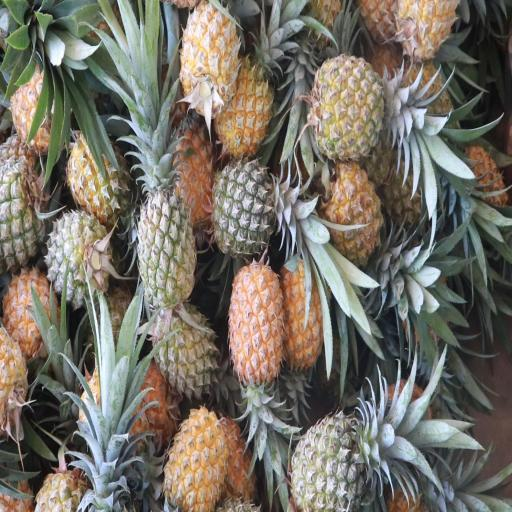------------------------------: (138, 146, 196, 304), (314, 54, 385, 158), (151, 294, 218, 395), (65, 119, 128, 216), (2, 264, 57, 366)
Pineapple - v8 v1: (160, 104, 222, 230), (160, 408, 229, 512), (229, 259, 284, 383), (180, 0, 239, 110), (218, 45, 274, 155), (282, 253, 333, 369), (327, 158, 386, 258)
